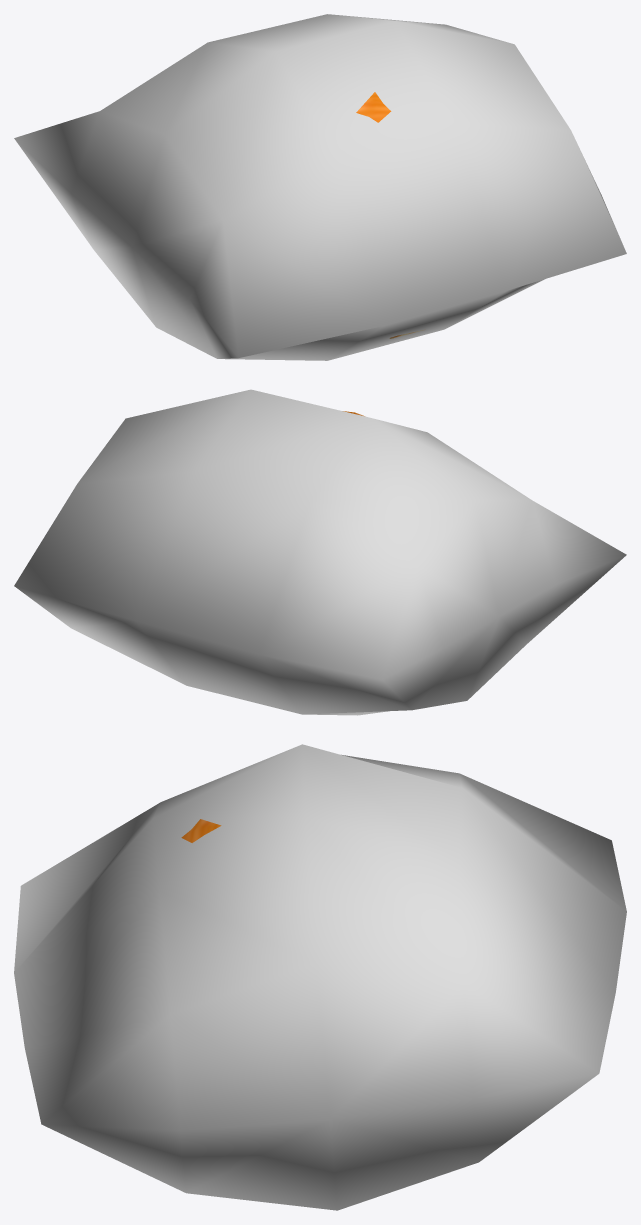
File: SM_bread_anpan.fbx
The picture shows the model from 3 angles, top to bottom: view 1: azimuth 30°, elevation 25°; view 2: azimuth 150°, elevation 25°; view 3: azimuth 270°, elevation 25°; orthographic projection. The views are drawn at different scales.
Visible parts, largest first — view 1: Object32440; view 2: Object32440; view 3: Object32440.
Part boxes in pixels (left/top/right/bottom): Object32440: left=14, top=14, right=626, bottom=360; Object32440: left=14, top=389, right=626, bottom=715; Object32440: left=14, top=744, right=626, bottom=1210.
Size of the model in its own units: 20.28 by 13.33 by 20.11.
